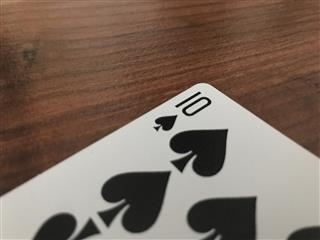TenOfSpades: (1, 80, 320, 240)
